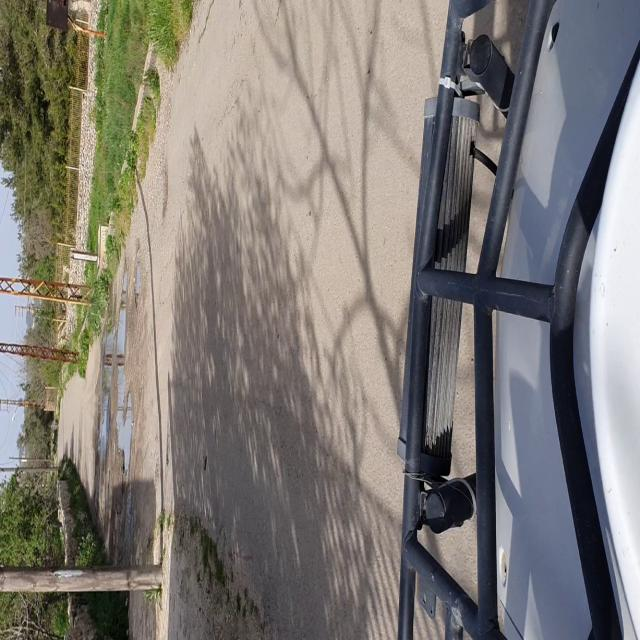Pothole: (117, 269, 129, 377), (122, 391, 134, 476), (95, 408, 108, 459), (135, 241, 141, 310)
